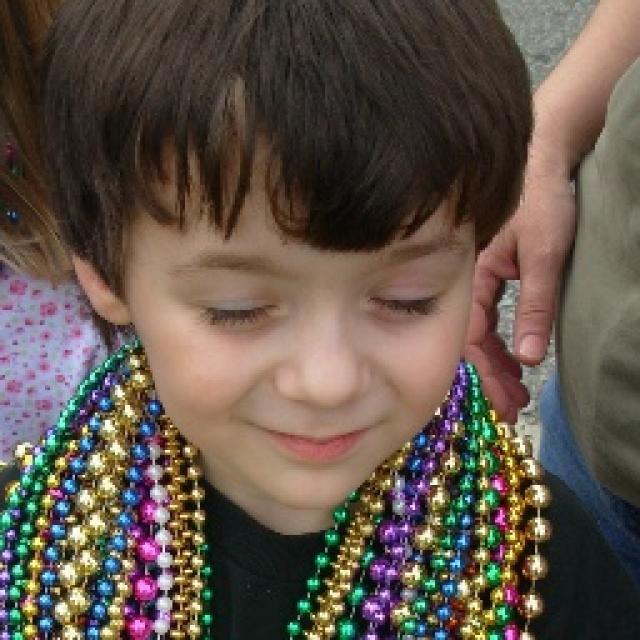earlobe: (73, 231, 134, 327)
